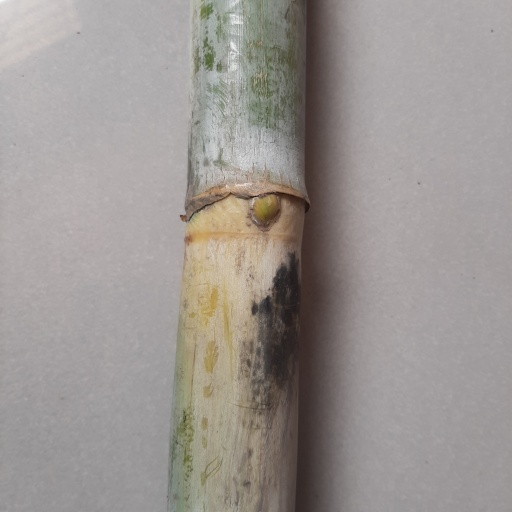Bud: (249, 195, 281, 231)
